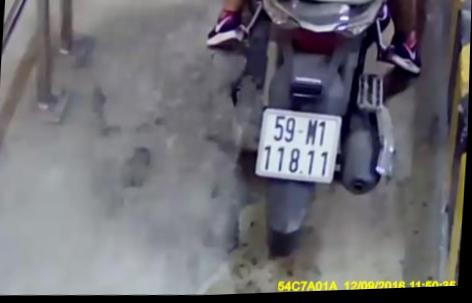LP: (254, 105, 345, 189)
